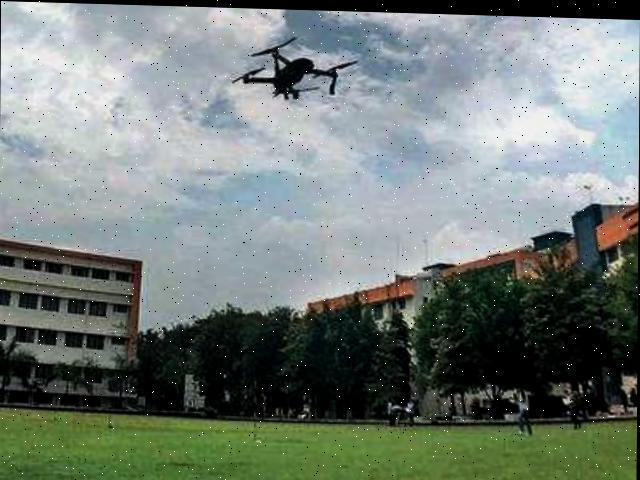drone: (228, 30, 359, 98)
